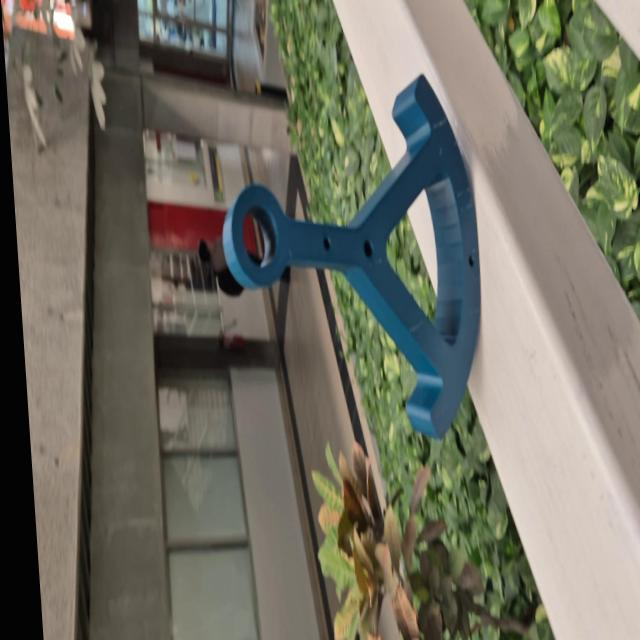haptic: (209, 71, 492, 442)
